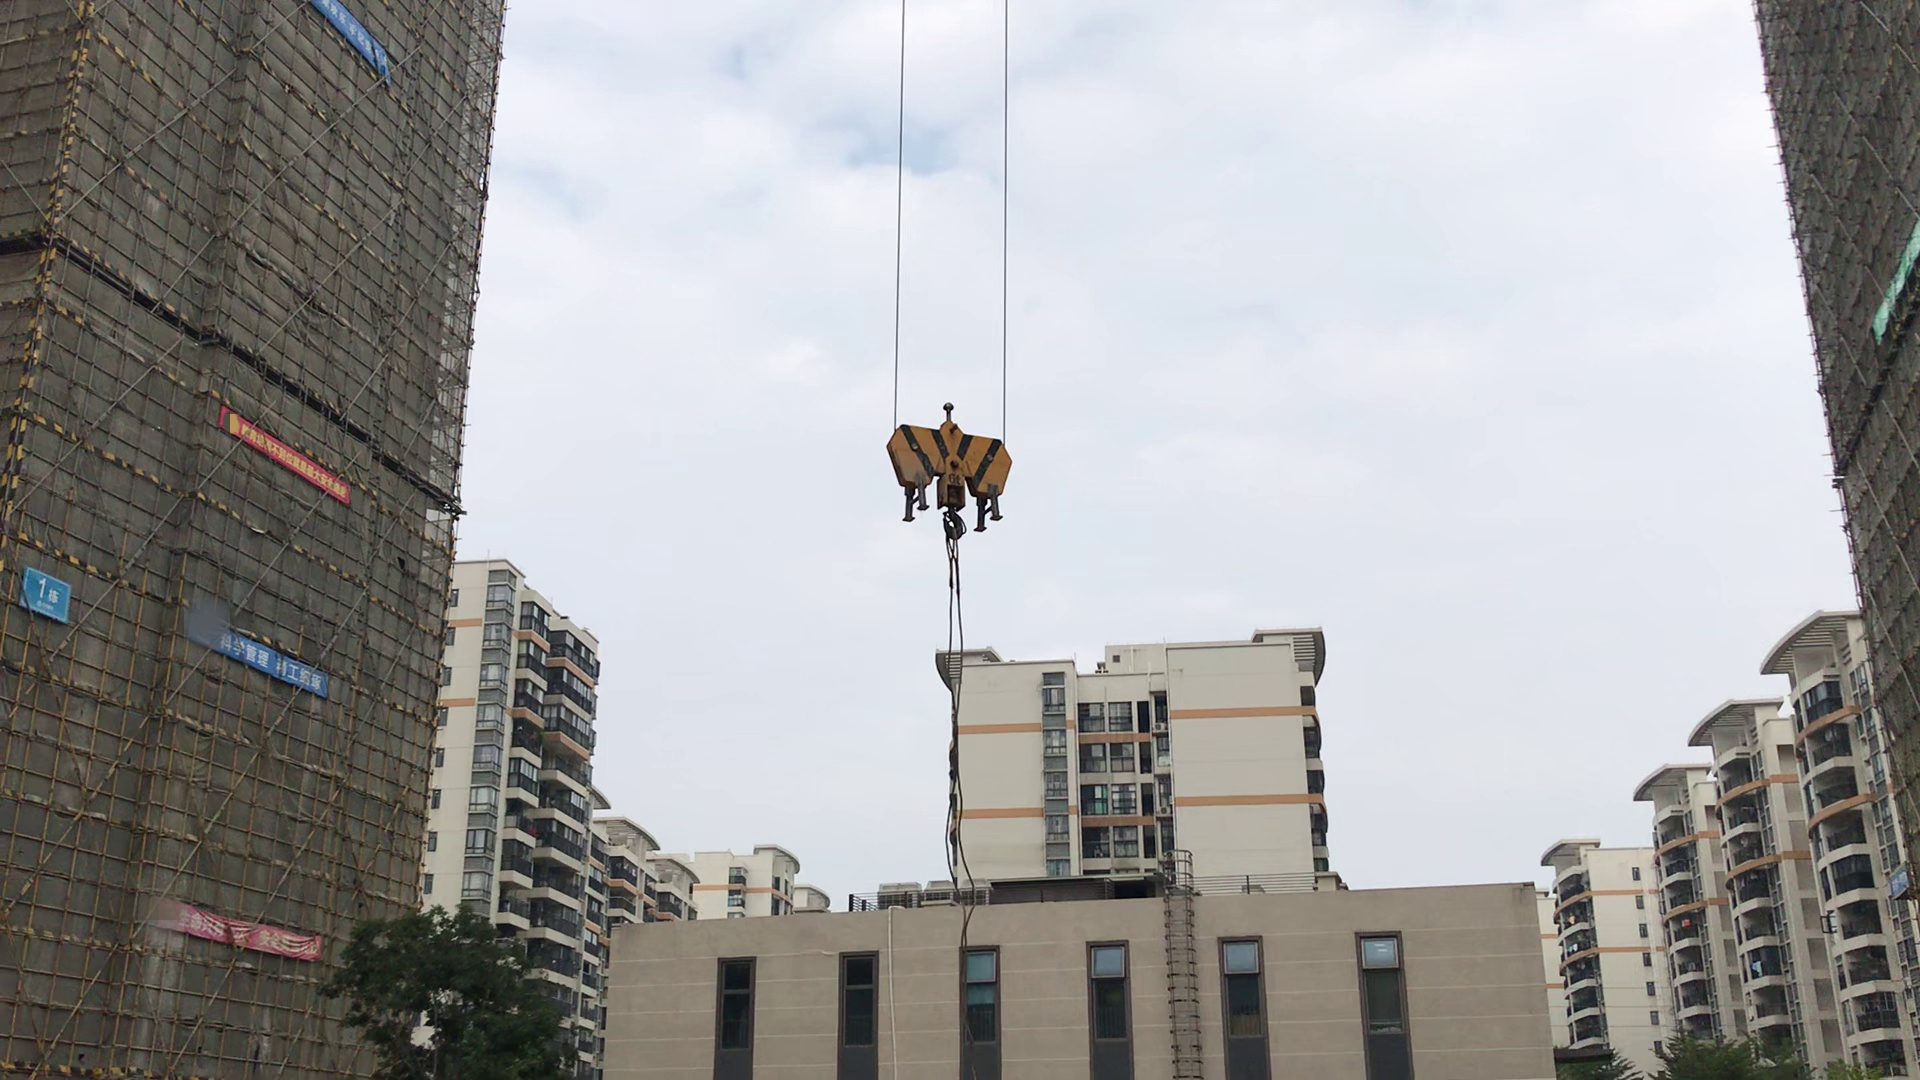hook: (876, 406, 1015, 527)
slogan: (216, 397, 369, 505), (177, 894, 319, 965), (215, 622, 340, 691)
